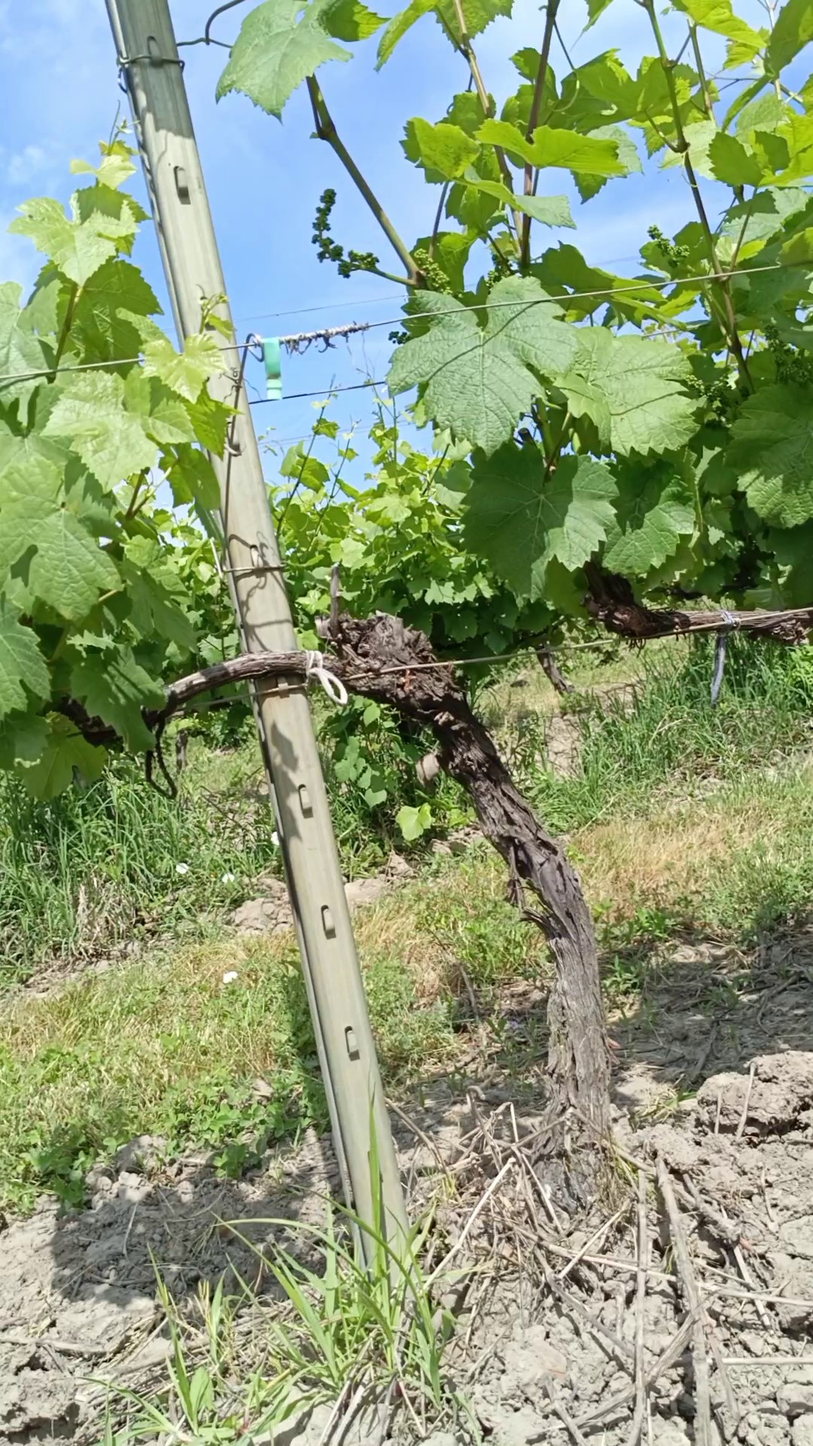vine_trunk: (324, 615, 610, 1198)
